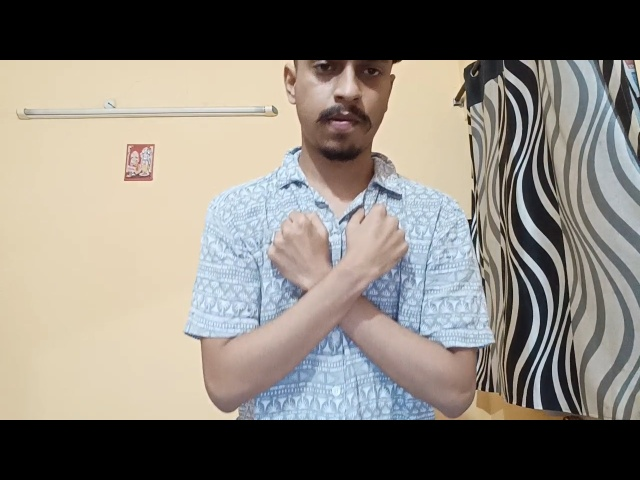Love: (262, 196, 426, 352)
